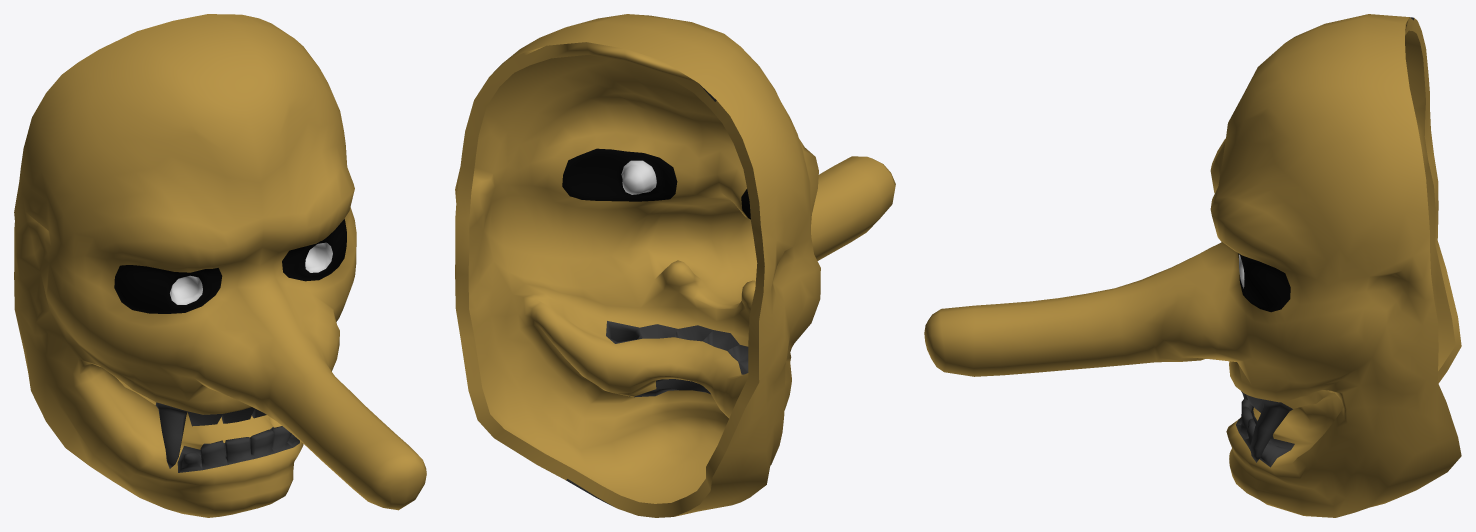
The model's file is tengu mask.fbx.
3 views of the same model, side by side, from view 1: azimuth 30°, elevation 25°; view 2: azimuth 150°, elevation 25°; view 3: azimuth 270°, elevation 25° (orthographic). The views are drawn at different scales.
Parts seen in each view (by area): view 1: Tengu mask.001; view 2: Tengu mask.001; view 3: Tengu mask.001.
Boxes of the visible parts, x1,y1,x2,y2 form: Tengu mask.001: (14, 14, 426, 517); Tengu mask.001: (455, 14, 895, 517); Tengu mask.001: (924, 14, 1461, 517).
Size of the model in its own units: 145 by 211 by 221.
